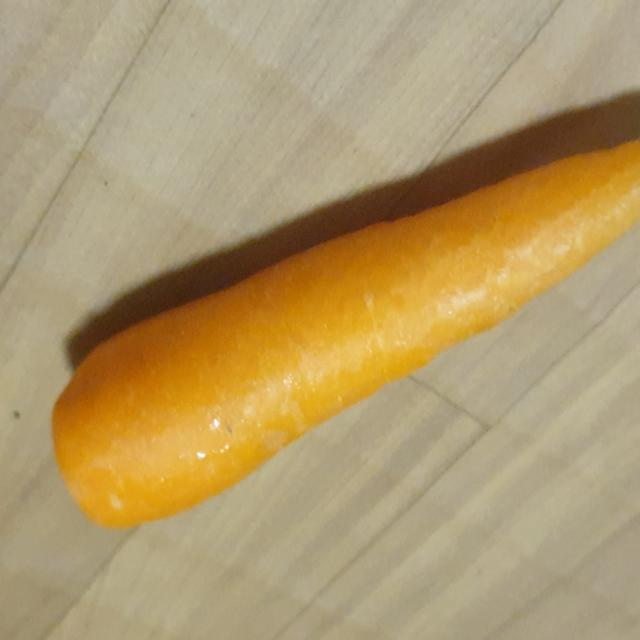Carrot: (45, 132, 640, 540)
